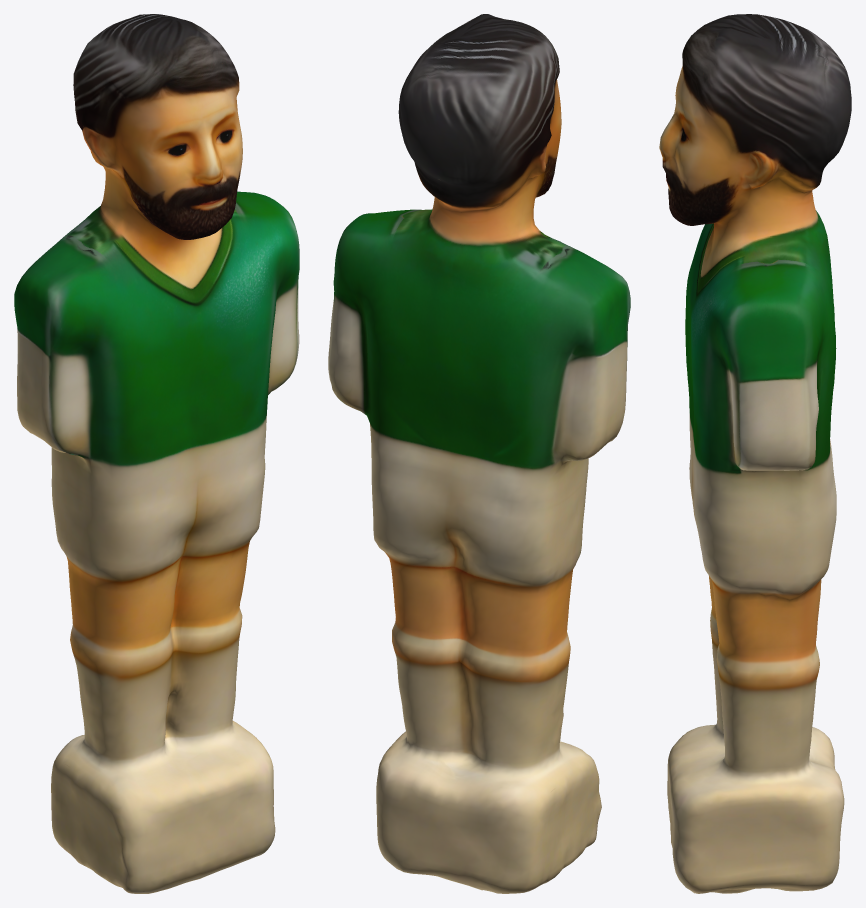
File: Foosball_Figure_in_Gr_0822135215_texture.fbx
3 views of the same model, side by side, from view 1: azimuth 30°, elevation 25°; view 2: azimuth 150°, elevation 25°; view 3: azimuth 270°, elevation 25° (orthographic).
Parts seen in each view (by area): view 1: Mesh1.0; view 2: Mesh1.0; view 3: Mesh1.0.
Boxes of the visible parts, x1,y1,x2,y2 form: Mesh1.0: [14, 14, 299, 893]; Mesh1.0: [328, 14, 630, 893]; Mesh1.0: [659, 14, 851, 893].
Size of the model in its own units: 67.21 by 200 by 41.2.
Materials: 1 (1 with a texture image).
